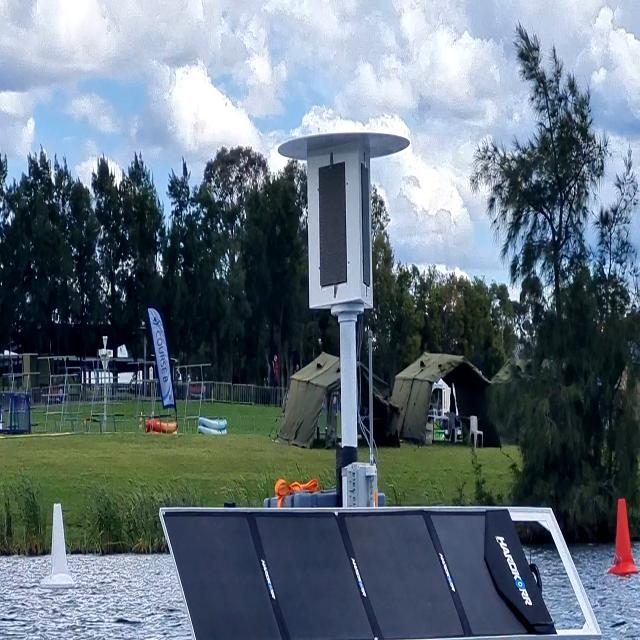led: (311, 156, 357, 291)
